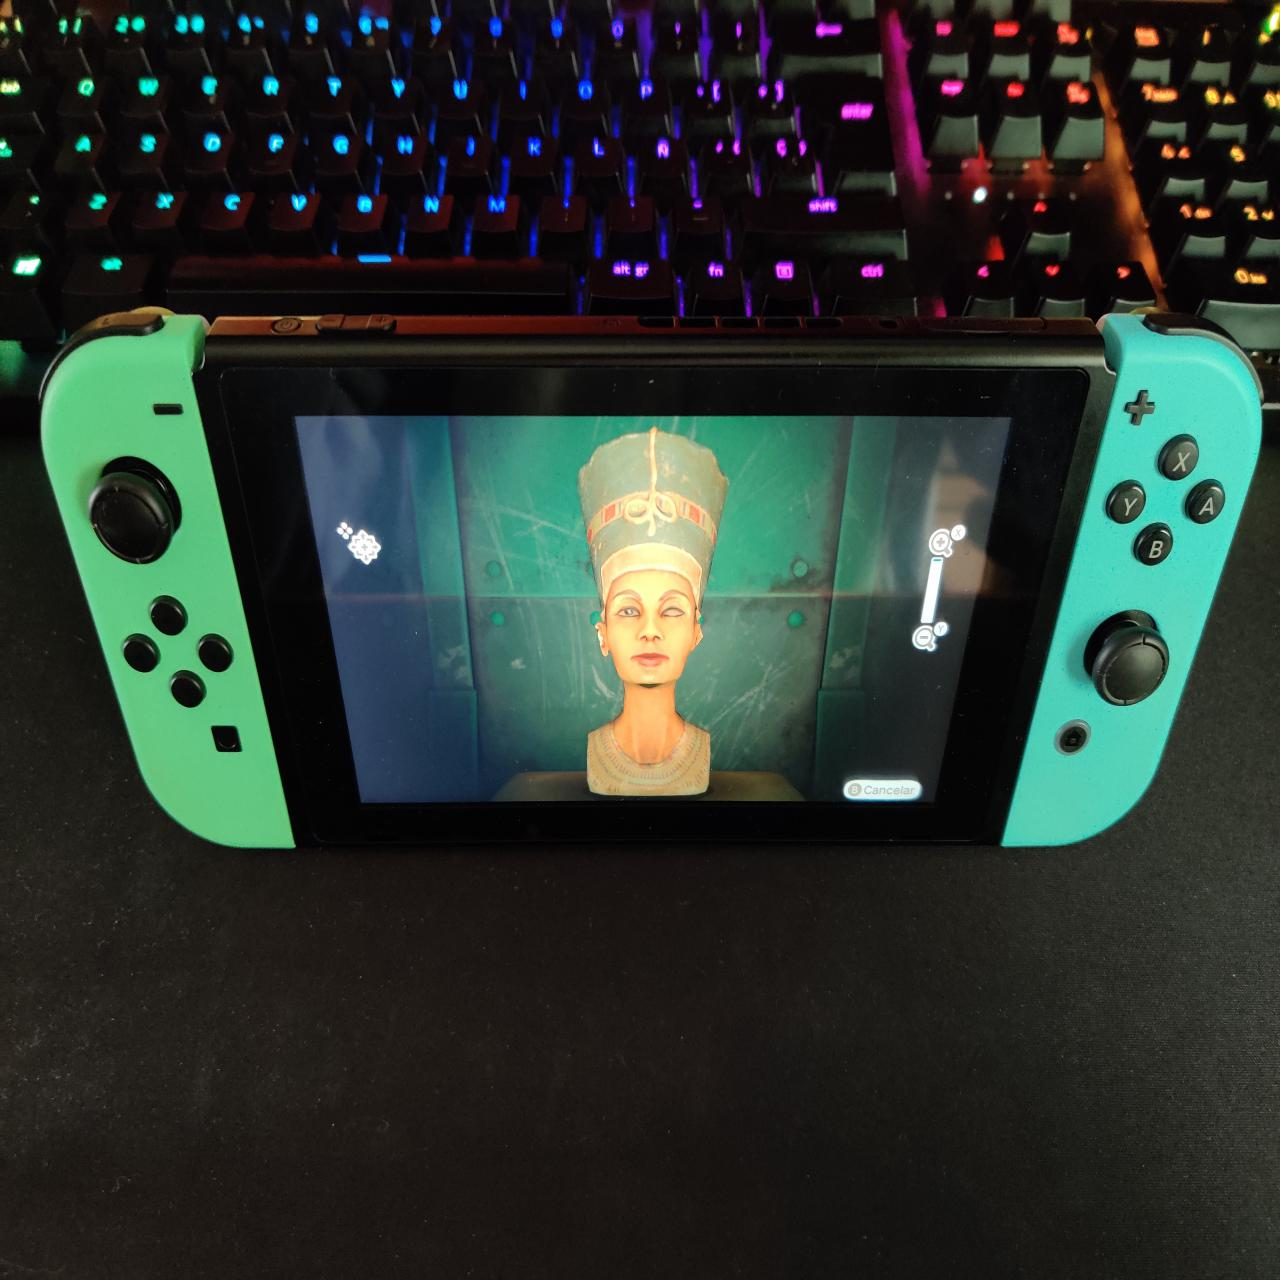Nefertiti: (576, 429, 728, 794)
